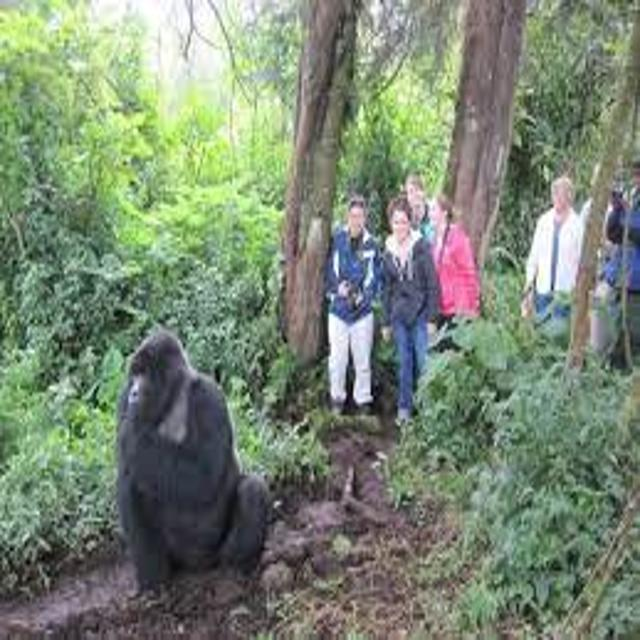Gorilla: (90, 315, 300, 593)
